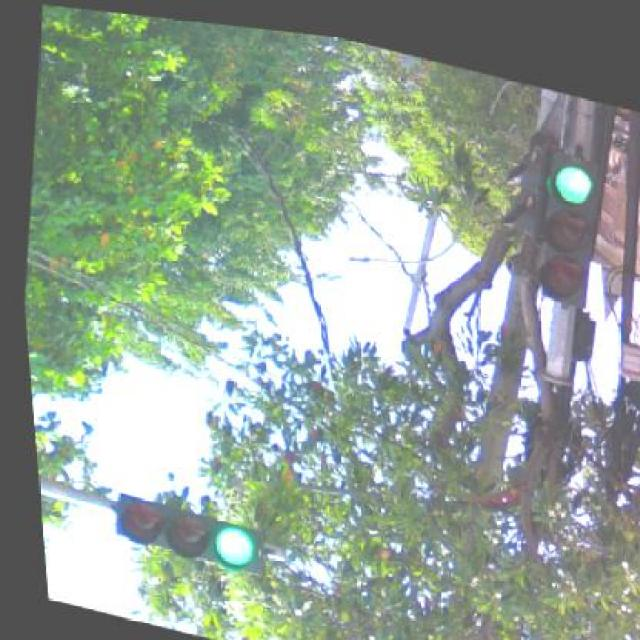green_light: (524, 133, 605, 299), (96, 486, 255, 569)
